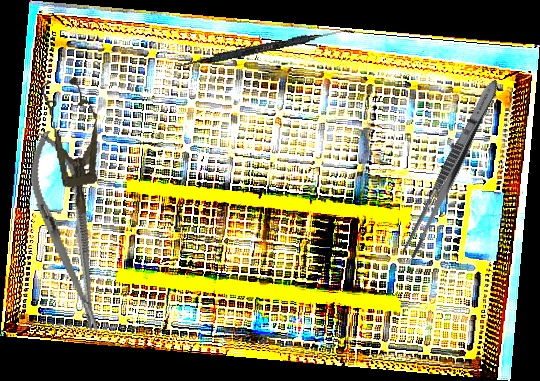Dressing Forceps: (399, 75, 504, 262)
Needle Holder: (18, 126, 118, 337)
Spatula Surgical: (174, 22, 355, 74)
Speculum: (37, 74, 111, 218)
